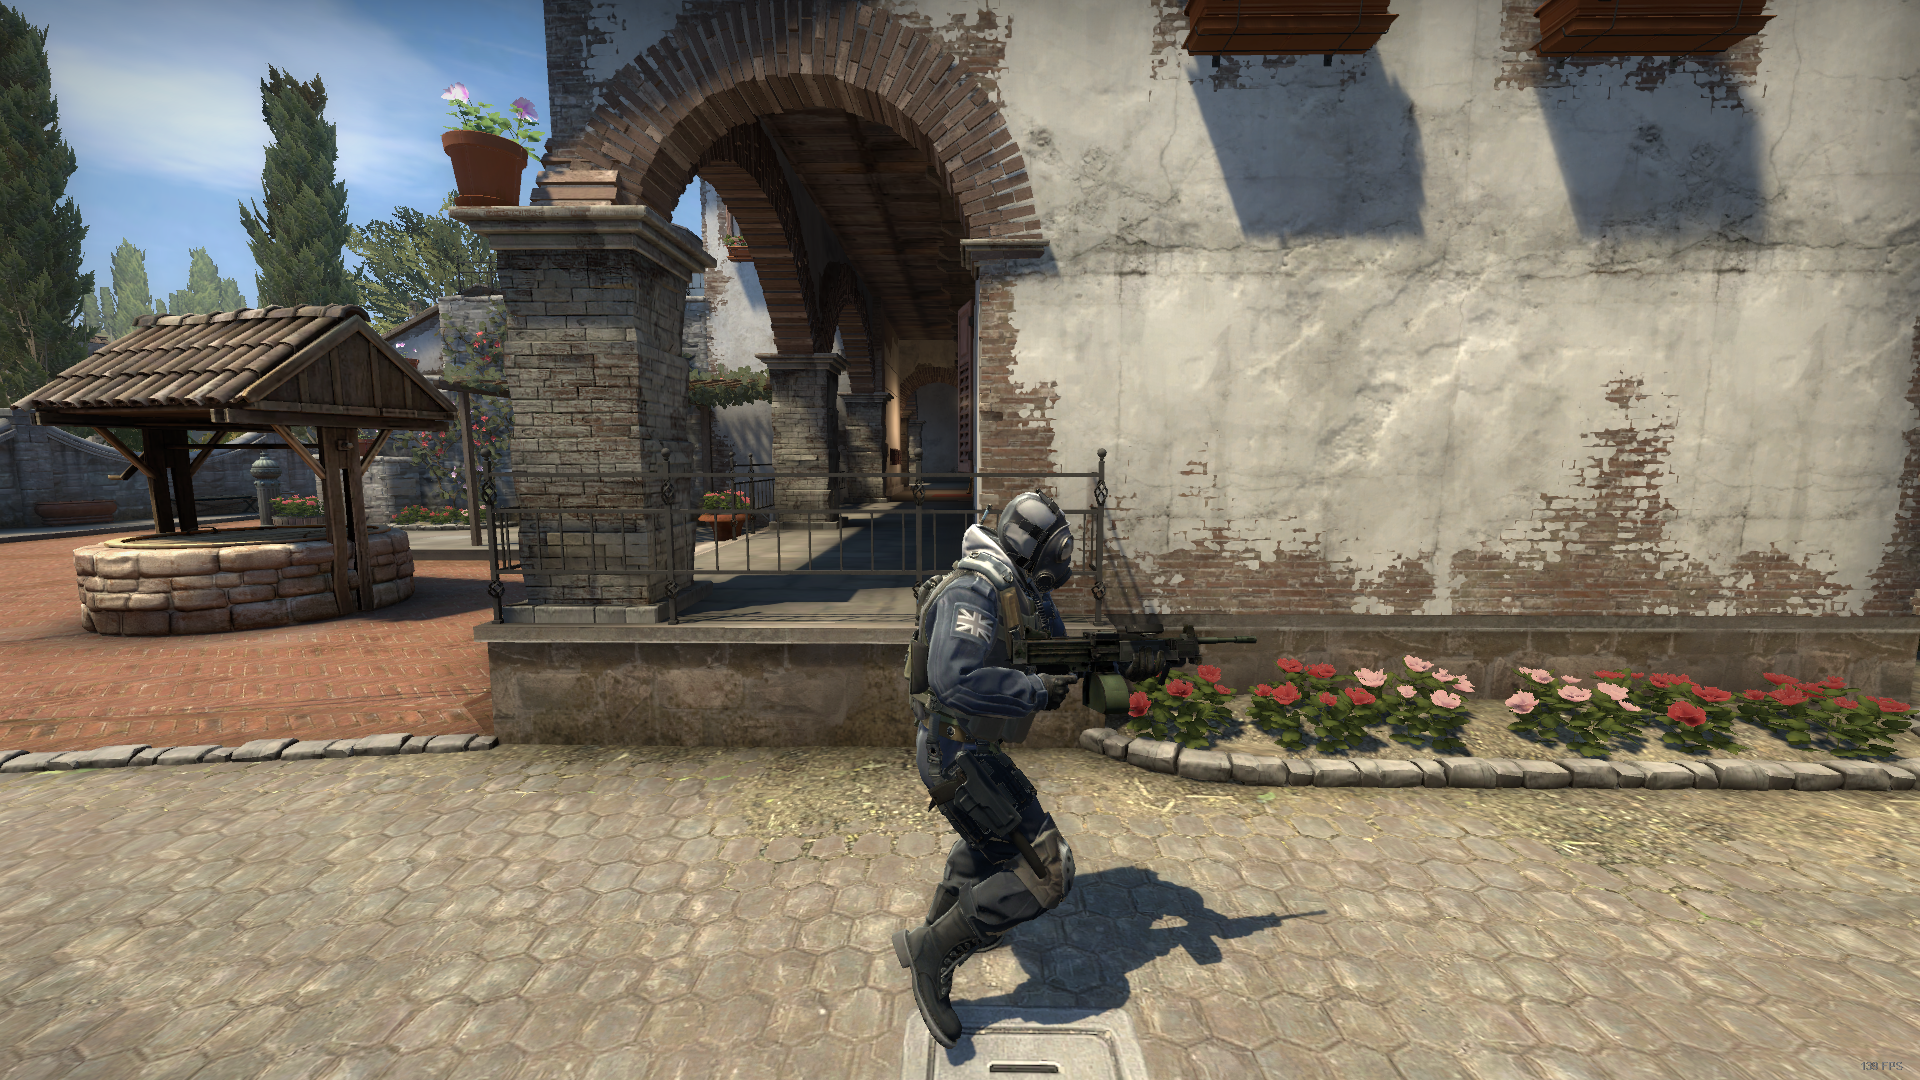ct: (884, 487, 1095, 1055)
